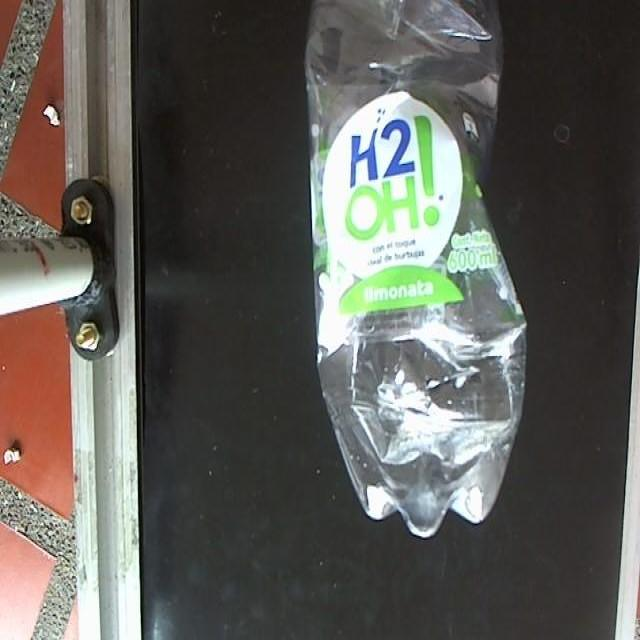defect: (302, 0, 531, 542)
